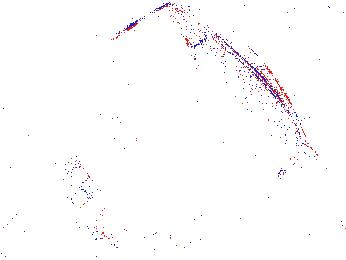X-ray fish: (55, 150, 112, 245)
glassfish: (166, 1, 316, 166)
